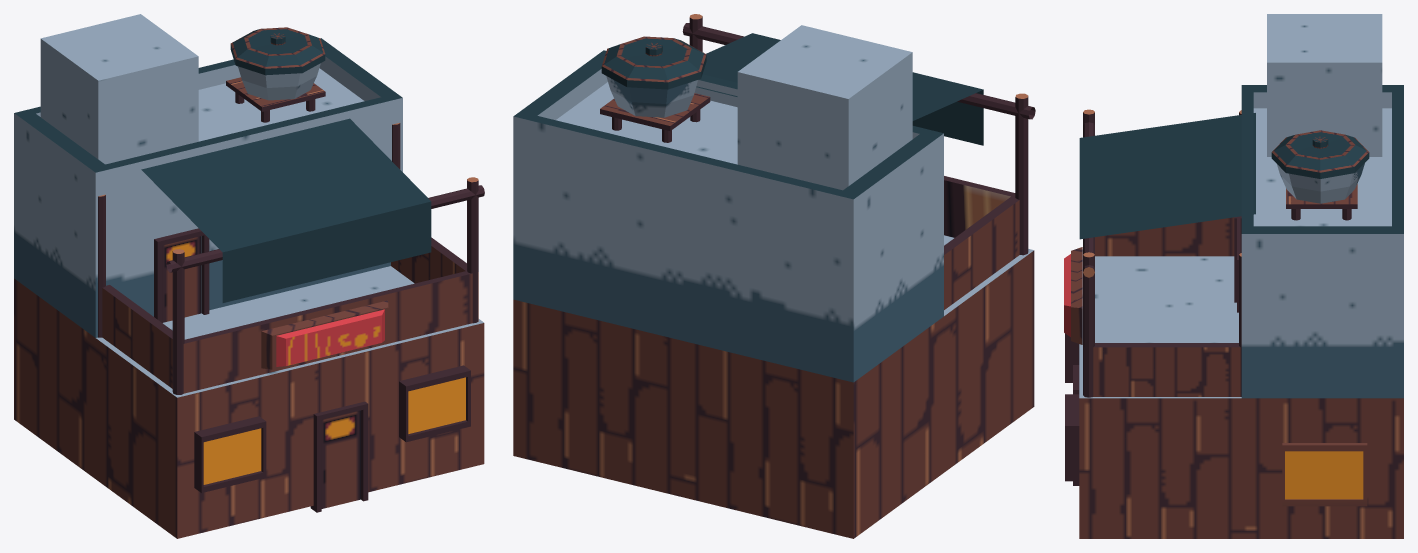
The model's file is CasaT1.fbx.
3 views of the same model, side by side, from view 1: azimuth 30°, elevation 25°; view 2: azimuth 150°, elevation 25°; view 3: azimuth 270°, elevation 25° (orthographic). The views are drawn at different scales.
Visible parts, largest first — view 1: Casa2.001; view 2: Casa2.001; view 3: Casa2.001.
Part boxes in pixels (x1,y1,x2,y2): Casa2.001: (14, 14, 484, 538); Casa2.001: (513, 14, 1035, 538); Casa2.001: (1064, 14, 1403, 538).
Bounding box in the file's own units: 629 × 590 × 744.
